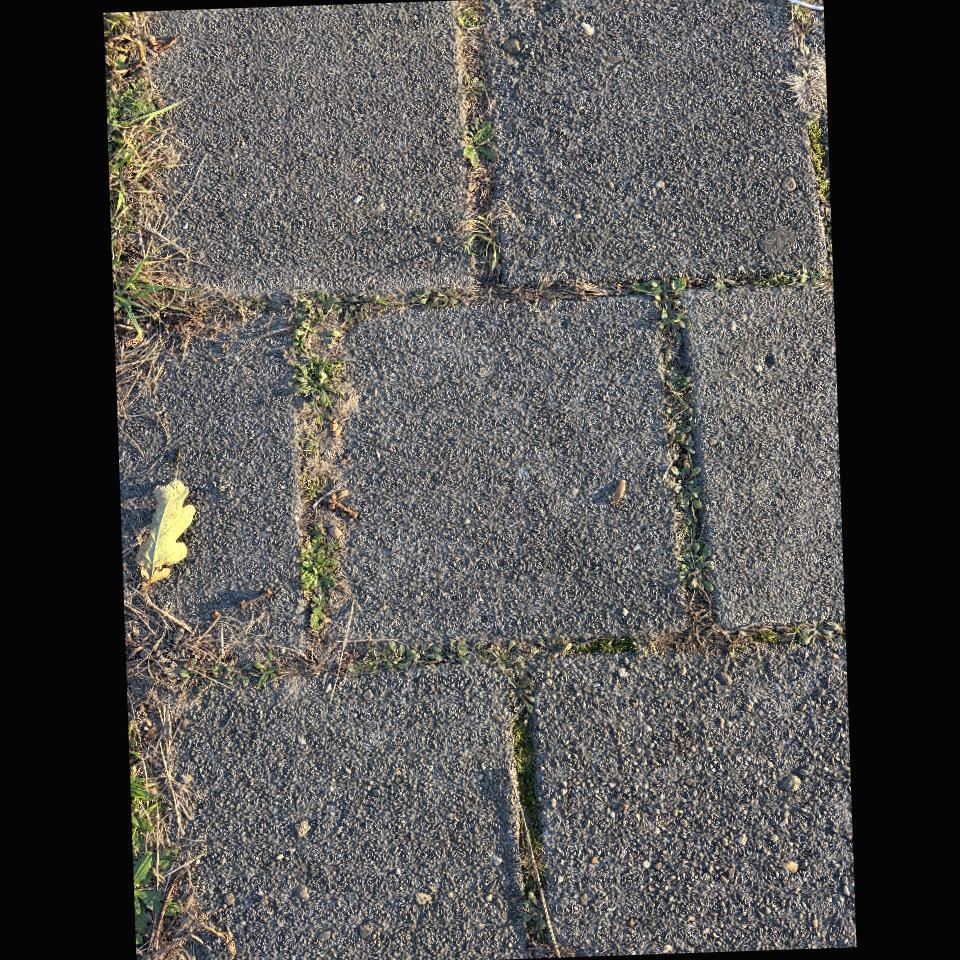weed: (111, 202, 251, 385), (105, 12, 179, 208), (299, 525, 342, 631), (134, 849, 181, 943), (633, 276, 686, 341), (296, 359, 344, 410), (785, 57, 827, 112), (676, 543, 716, 591), (463, 116, 498, 168), (668, 460, 703, 511), (666, 408, 696, 460), (482, 639, 519, 674), (532, 636, 574, 666), (348, 645, 392, 673), (798, 616, 839, 644), (300, 289, 342, 315), (508, 673, 535, 713), (252, 651, 279, 688), (433, 640, 475, 663), (665, 376, 696, 407), (792, 45, 820, 76), (348, 294, 380, 320), (524, 891, 545, 929), (725, 630, 751, 659), (406, 640, 440, 662), (457, 75, 484, 99), (390, 641, 413, 669), (632, 634, 659, 656), (226, 663, 251, 686), (303, 477, 327, 500), (791, 269, 824, 285), (292, 321, 308, 353), (298, 433, 317, 457), (179, 658, 199, 678), (709, 277, 735, 292), (247, 298, 274, 312), (438, 288, 456, 307)
